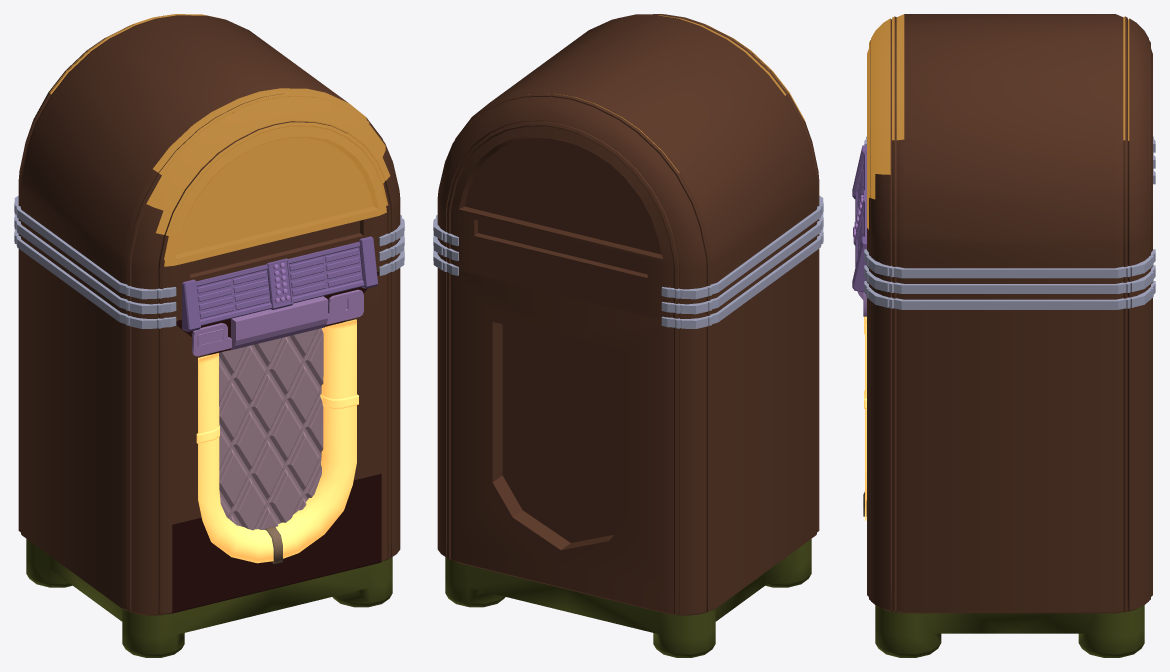
File: jukebox.glb
3 renders of one model, left to right at view 1: azimuth 30°, elevation 25°; view 2: azimuth 150°, elevation 25°; view 3: azimuth 270°, elevation 25°, orthographic. The views are drawn at different scales.
Parts seen in each view (by area): view 1: BODY; view 2: BODY; view 3: BODY.
Boxes of the visible parts, box(x1,y1,x2,y2) form: BODY: box(14, 14, 404, 657); BODY: box(433, 14, 823, 657); BODY: box(852, 14, 1155, 657).
Size of the model in its own units: 0.5567 by 1 by 0.4896.
